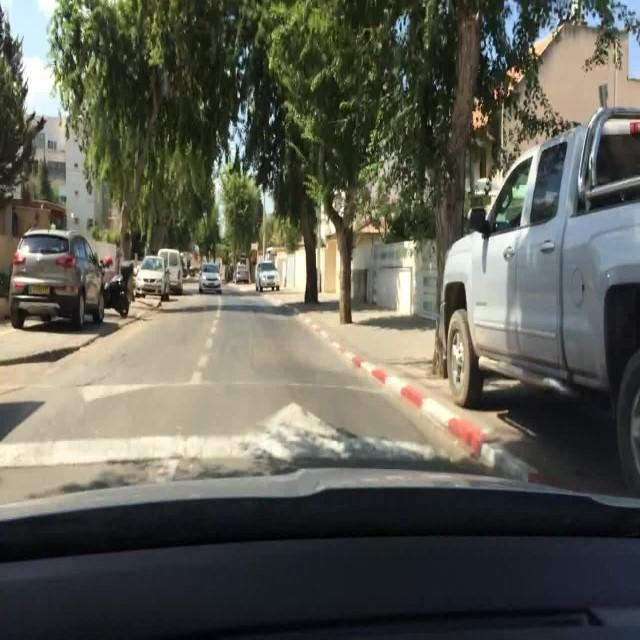normal: (431, 96, 639, 487), (7, 228, 104, 332), (132, 256, 170, 298), (257, 262, 282, 292), (199, 264, 223, 293)
